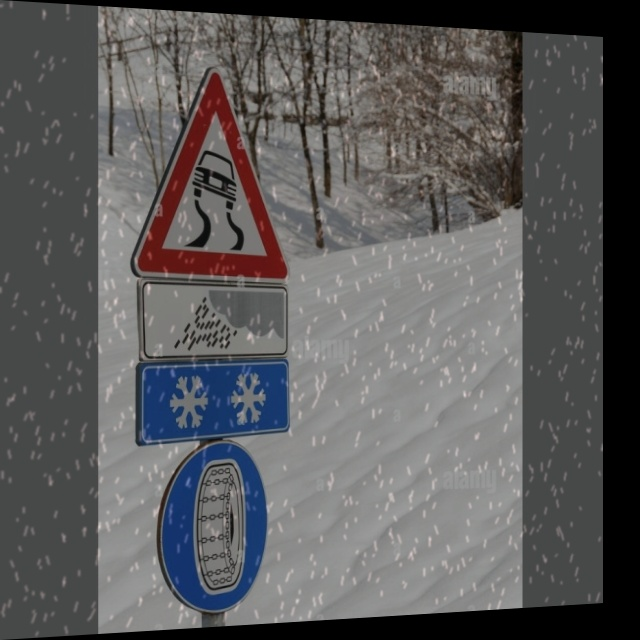Slippery_Road: (143, 62, 292, 283)
